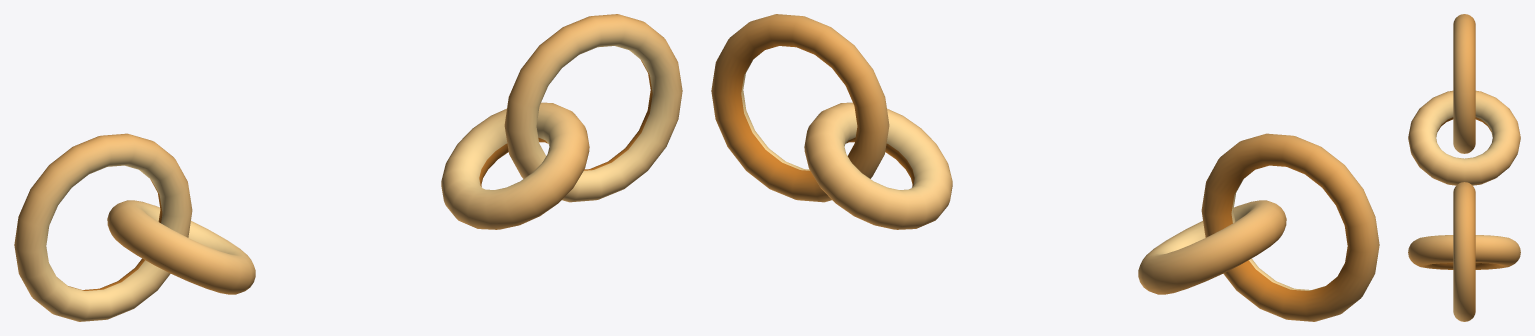
Rendered from hashigo_m_c.fbx.
The picture shows the model from 3 angles, left to right: view 1: azimuth 30°, elevation 25°; view 2: azimuth 150°, elevation 25°; view 3: azimuth 270°, elevation 25°; orthographic projection. The views are drawn at different scales.
Parts seen in each view (by area): view 1: d3; view 2: d3; view 3: d3.
Boxes of the visible parts, x1,y1,x2,y2 form: d3: [14, 14, 682, 321]; d3: [711, 14, 1379, 321]; d3: [1408, 14, 1520, 321].
Bounding box in the file's own units: 19.09 × 5 × 4.
